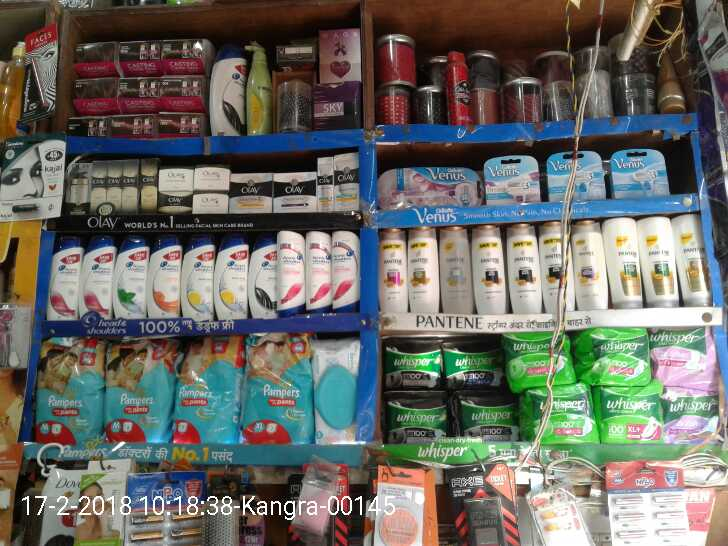venus: (379, 169, 482, 208), (486, 156, 540, 209), (612, 150, 665, 200), (549, 154, 606, 200)
